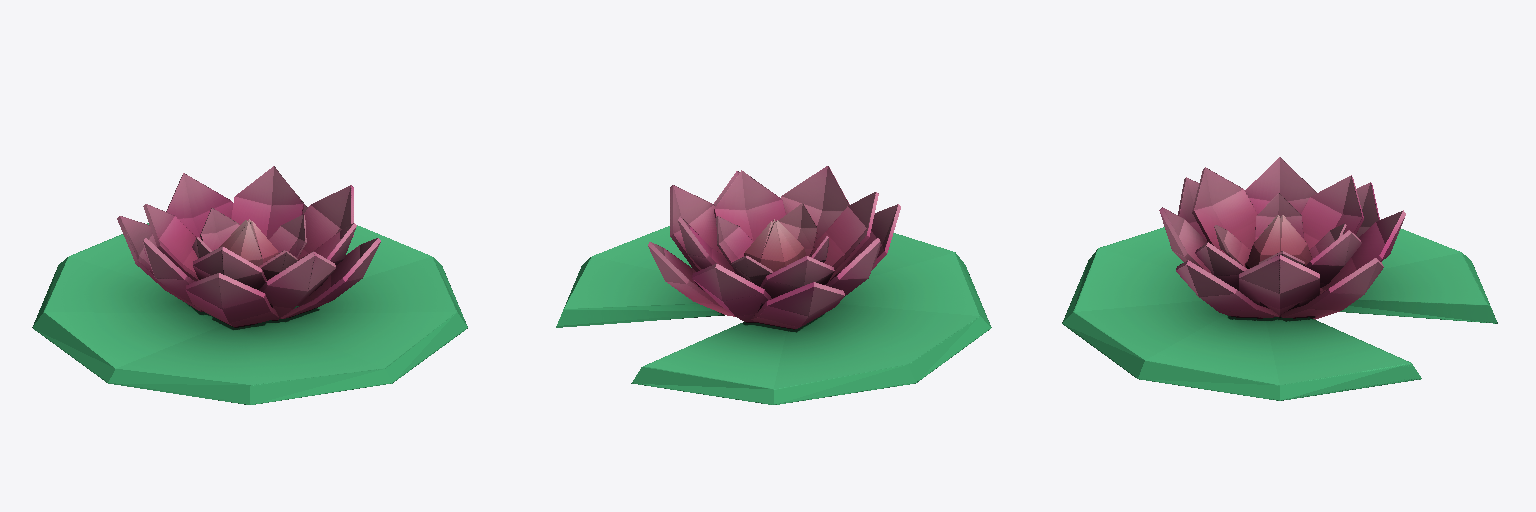
3 views of the same model, side by side, from view 1: azimuth 30°, elevation 25°; view 2: azimuth 150°, elevation 25°; view 3: azimuth 270°, elevation 25° (orthographic).
Visible parts, largest first — view 1: Lilypad_mesh; view 2: Lilypad_mesh; view 3: Lilypad_mesh.
Part boxes in pixels (x1,y1,x2,y2): Lilypad_mesh: (32, 166, 467, 404); Lilypad_mesh: (556, 166, 991, 404); Lilypad_mesh: (1062, 157, 1497, 400).
Size of the model in its own units: 10.71 by 2.99 by 10.88.
1 materials, 1 textured.